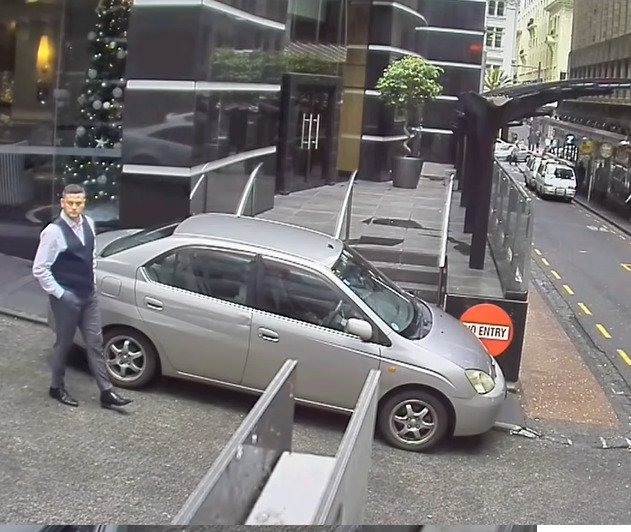person: (34, 185, 136, 411)
